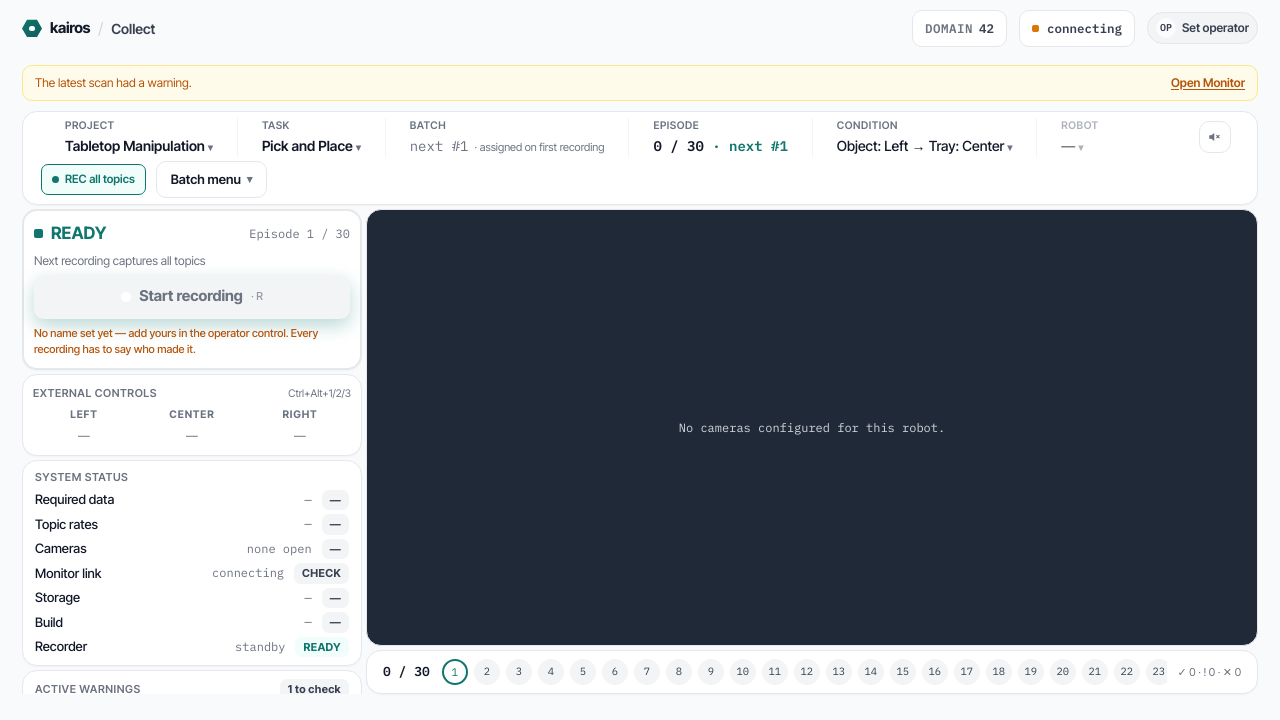
Test: solo banner preserves solo routing while opening Monitor Store
Click the button with test id "store-health-banner-monitor". click: (1208, 83)
box: [1171,74,1245,92]
(page scrolled)
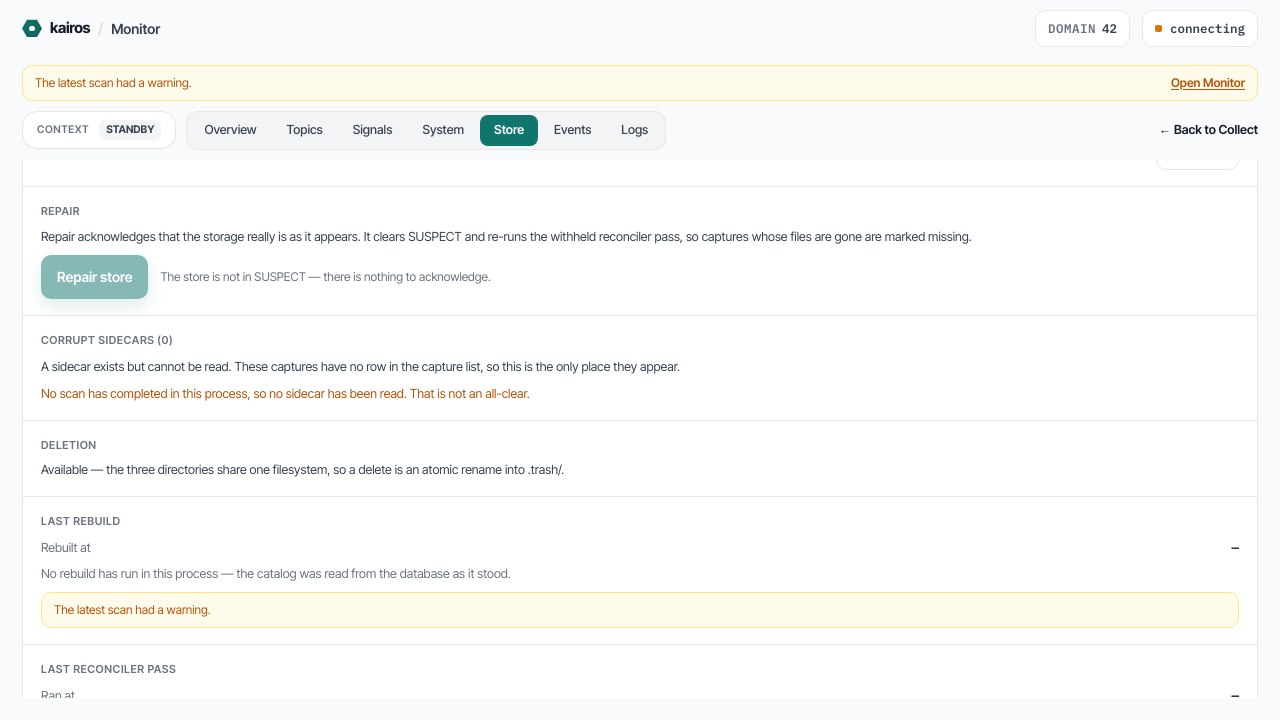
Now the element with test id "store-health-panel" is shown
